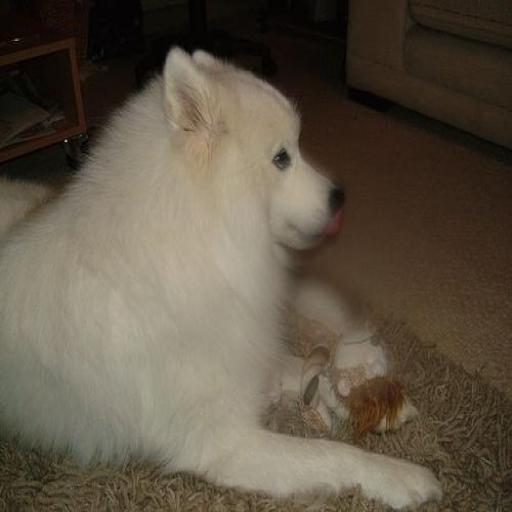dog_face: (166, 45, 344, 261)
